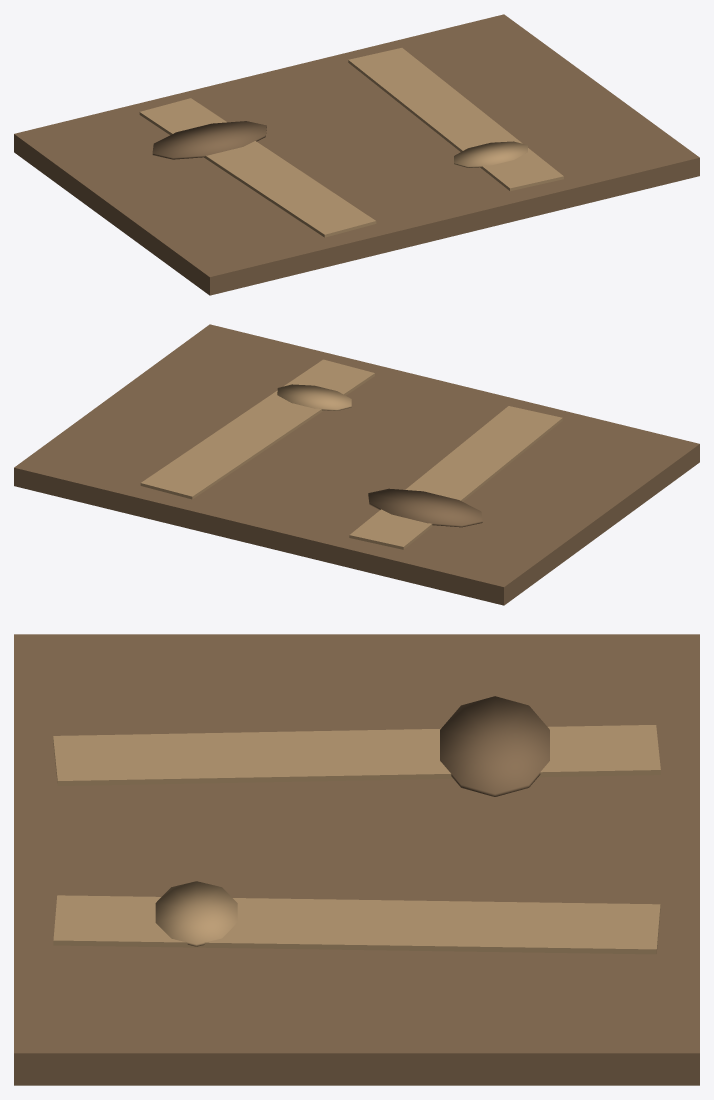
The model's file is track_mud_2lane.glb.
3 views of the same model, one above another, from view 1: azimuth 30°, elevation 25°; view 2: azimuth 150°, elevation 25°; view 3: azimuth 270°, elevation 25° (orthographic). The views are drawn at different scales.
Visible parts, largest first — view 1: track_mud_2lane; view 2: track_mud_2lane; view 3: track_mud_2lane.
Boxes of the visible parts, <box> form: track_mud_2lane: <box>14,14,699,295</box>; track_mud_2lane: <box>14,324,699,605</box>; track_mud_2lane: <box>14,634,699,1085</box>.
Size of the model in its own units: 4.45 by 0.201 by 3.08.
